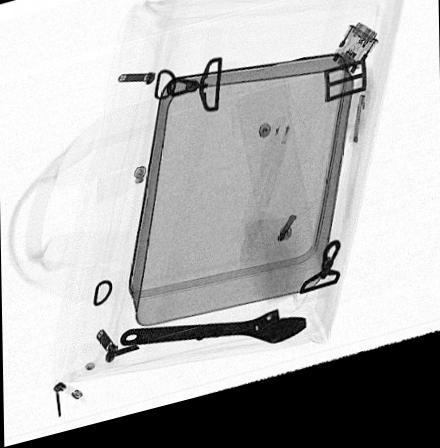Wrench: (117, 323, 308, 359)
